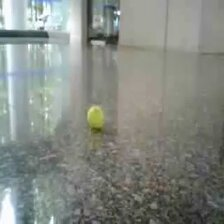tennis: (87, 107, 103, 127)
